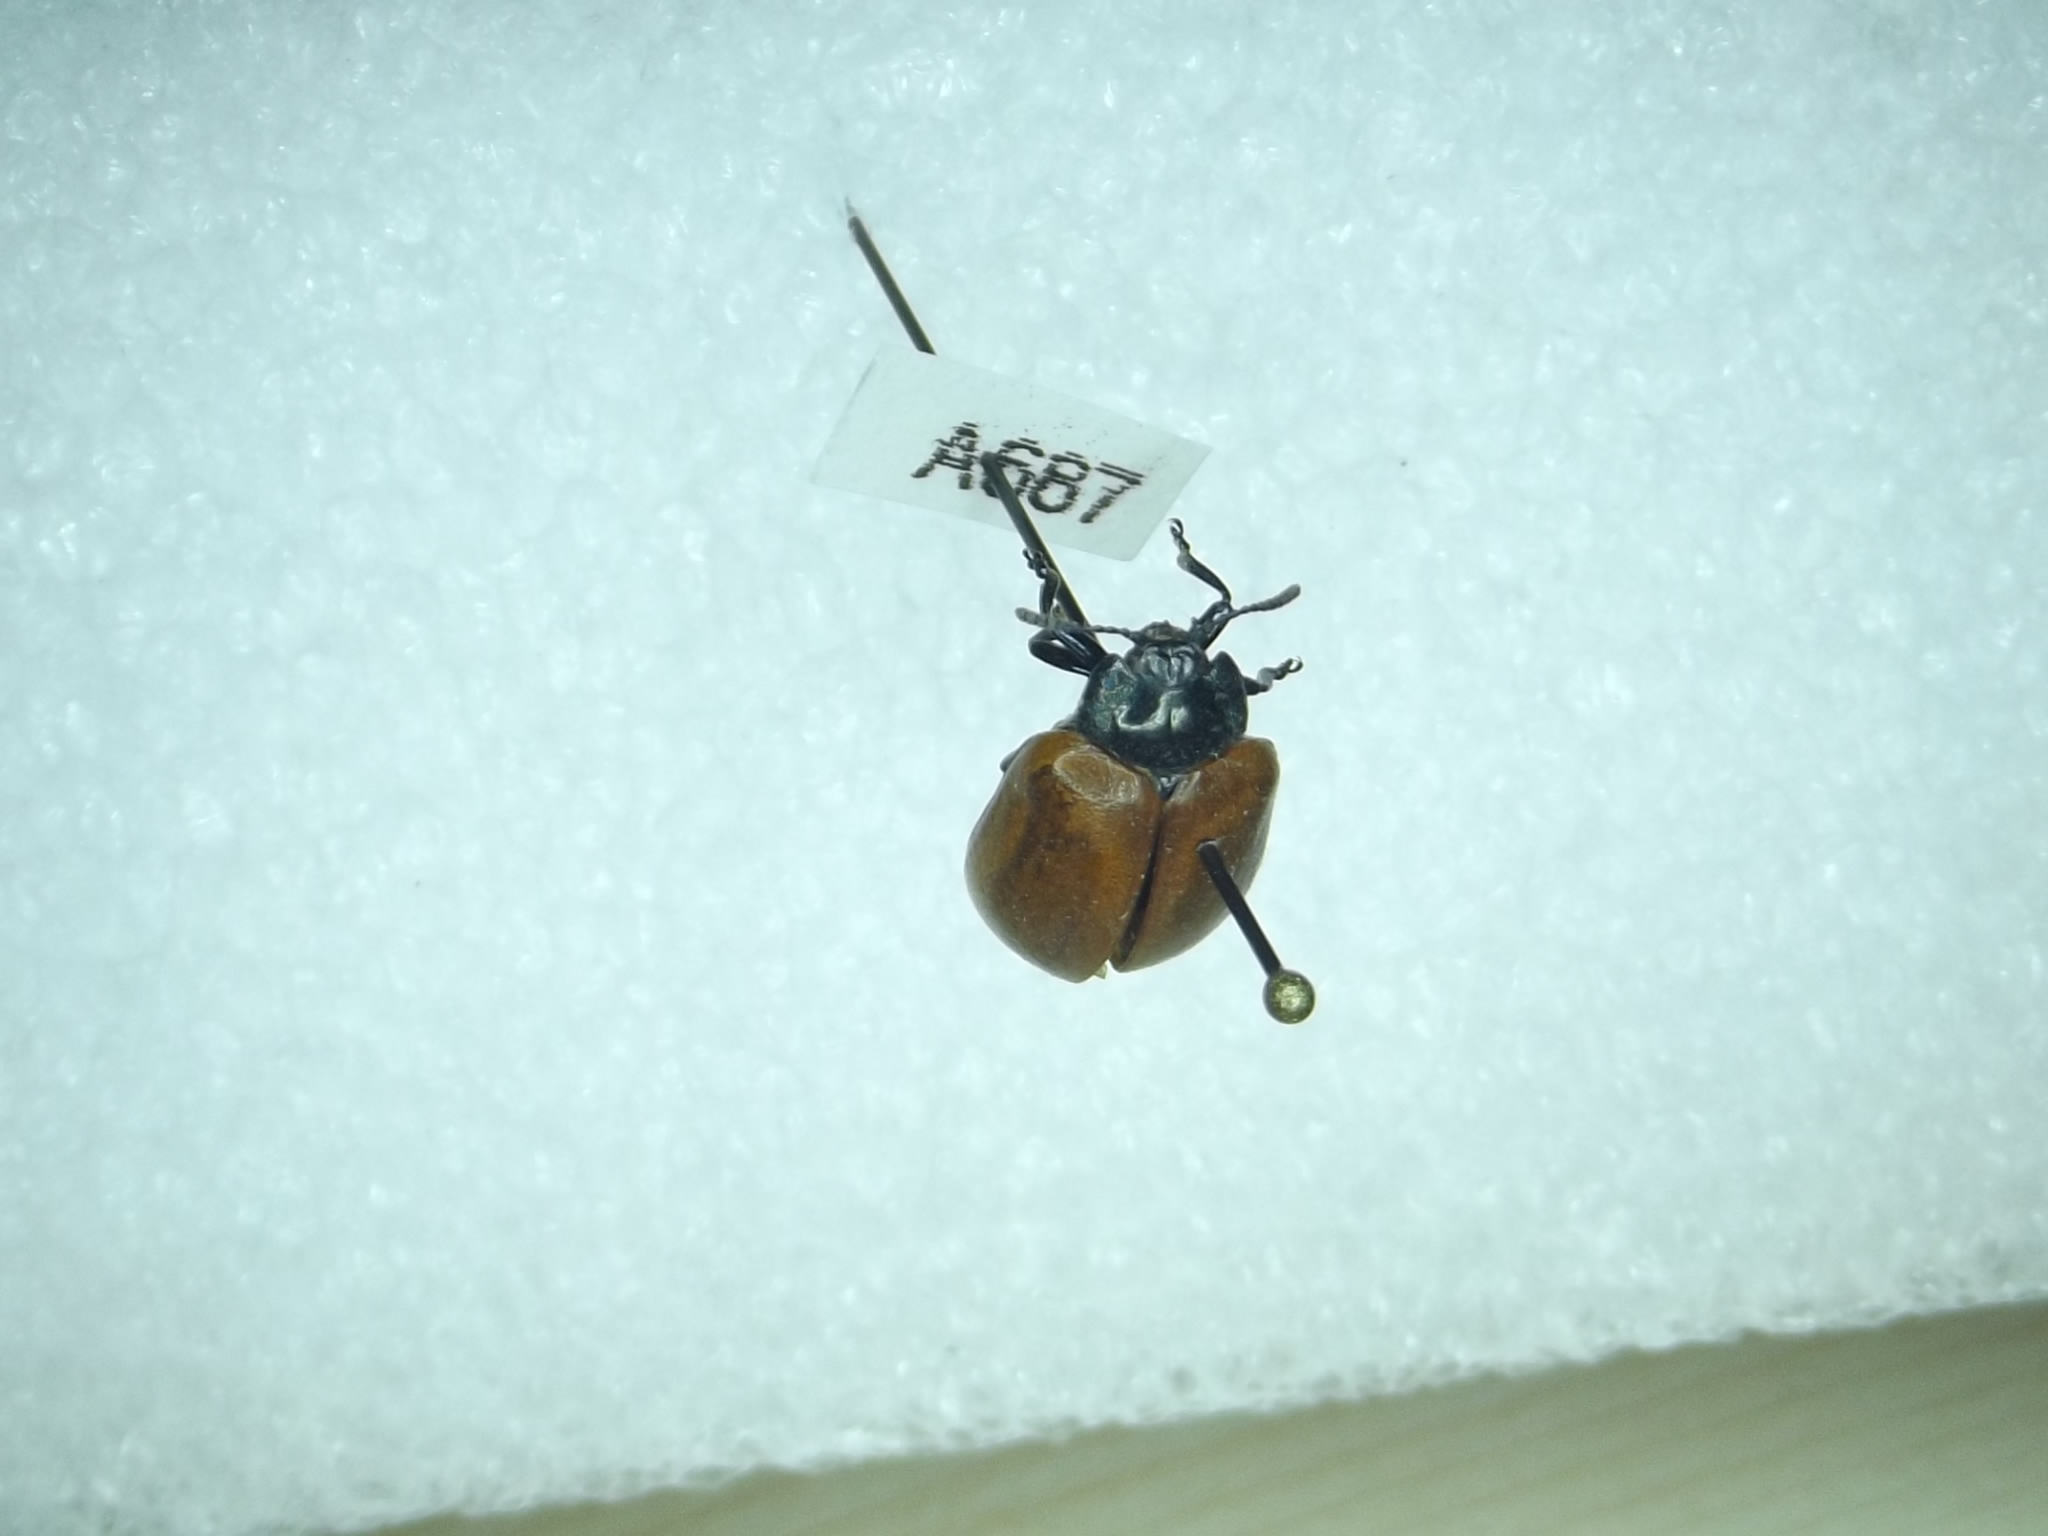Chrysomela_populi: (958, 499, 1317, 994)
